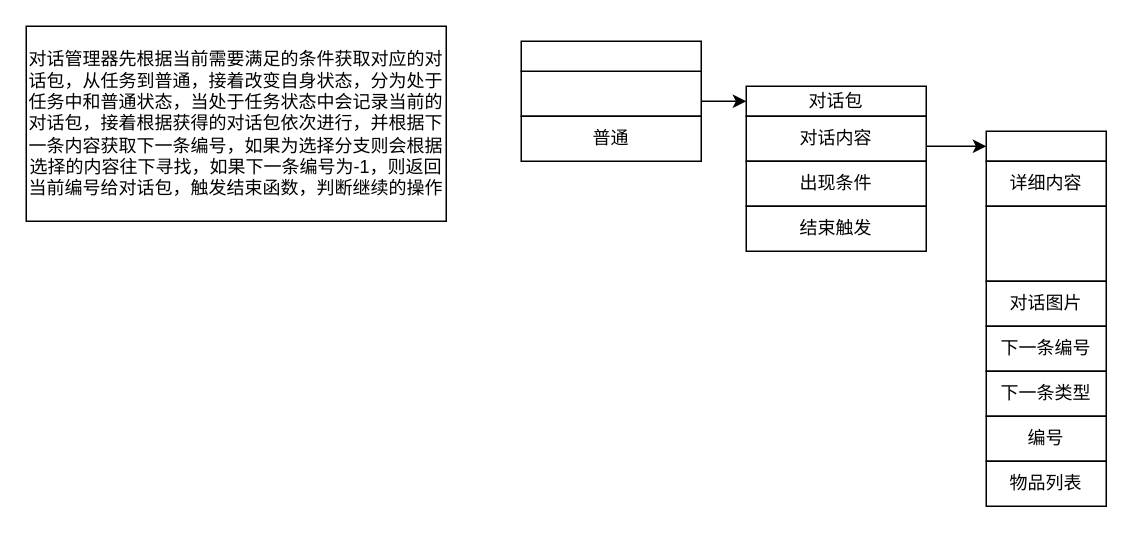
The diagram is 1133 pixels wide and 533 high, and some of its shapes have lost their labels. Here are the shapes that lost their labels. From the top down, the centre of each, then its label:
point (610, 55): 对话组件
point (610, 93): 任务
point (1045, 145): 对话体
point (1045, 243): 对话体类型： 选择，提交，领取，或普通
